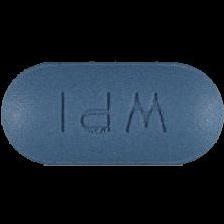0591-3248: (0, 0, 224, 224)
